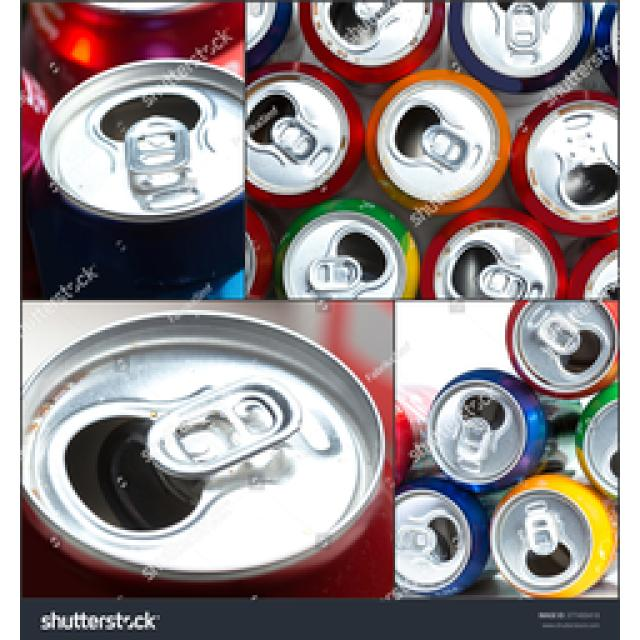aluminum_soda_cans: (25, 307, 382, 580), (37, 64, 240, 258), (375, 78, 498, 200), (270, 204, 412, 304), (492, 480, 616, 592), (250, 60, 357, 187), (517, 92, 620, 213), (392, 482, 482, 595), (435, 374, 527, 484), (440, 213, 552, 297), (510, 303, 622, 382), (466, 0, 582, 70), (310, 0, 432, 55), (580, 394, 618, 488)
